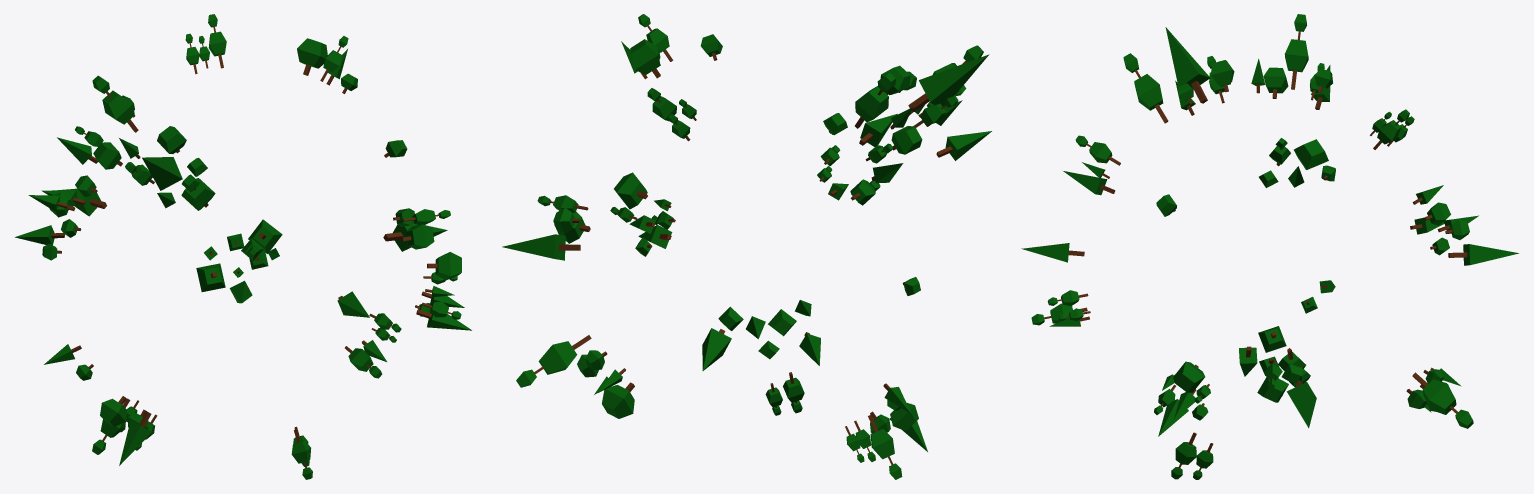
The model's file is planet_trees.glb.
The picture shows the model from 3 angles, left to right: view 1: azimuth 30°, elevation 25°; view 2: azimuth 150°, elevation 25°; view 3: azimuth 270°, elevation 25°; orthographic projection. The views are drawn at different scales.
Parts seen in each view (by area): view 1: tree_0.009, tree_2.012, tree_1.013, tree_0.008, tree_2.007, tree_1.003, tree_1.006, tree_1.009, tree_1, tree_0.015, tree_1.019, tree_1.018 (+9 smaller); view 2: tree_2.012, tree_0.015, tree_0.009, tree_2.019, tree_1.006, tree_1.013, tree_0.016, tree_2.015, tree_1.003, tree_2.006, tree_2.004, tree_1.019 (+5 smaller); view 3: tree_2.012, tree_0.015, tree_0.008, tree_0.009, tree_2.015, tree_2.019, tree_1.013, tree_1.003, tree_2.004, tree_0.020, tree_1.019, tree_0.012 (+2 smaller).
Part boxes in pixels (<box>): tree_0.009: <box>92,75,138,132</box>; tree_2.012: <box>142,157,182,190</box>; tree_1.013: <box>297,38,327,75</box>; tree_0.008: <box>181,174,215,210</box>; tree_2.007: <box>119,411,151,465</box>; tree_1.003: <box>427,252,461,280</box>; tree_1.006: <box>196,263,225,291</box>; tree_1.009: <box>100,396,126,426</box>; tree_1: <box>401,224,434,249</box>; tree_0.015: <box>248,219,282,253</box>; tree_1.019: <box>93,142,122,169</box>; tree_1.018: <box>157,126,186,153</box>; tree_2.012: <box>908,54,989,111</box>; tree_0.015: <box>516,335,591,387</box>; tree_0.009: <box>855,72,895,128</box>; tree_2.019: <box>502,234,580,260</box>; tree_1.006: <box>602,382,634,418</box>; tree_1.013: <box>630,39,660,78</box>; tree_0.016: <box>868,415,902,479</box>; tree_2.015: <box>702,328,731,370</box>; tree_1.003: <box>614,172,647,209</box>; tree_2.006: <box>936,131,991,160</box>; tree_2.004: <box>859,113,897,146</box>; tree_1.019: <box>891,126,922,154</box>; tree_2.012: <box>1165,27,1210,103</box>; tree_0.015: <box>1412,372,1473,428</box>; tree_0.008: <box>1123,53,1168,123</box>; tree_0.009: <box>1284,14,1308,89</box>; tree_2.015: <box>1448,244,1518,265</box>; tree_2.019: <box>1287,381,1316,428</box>; tree_1.013: <box>1294,139,1328,169</box>; tree_1.003: <box>1173,361,1205,392</box>; tree_2.004: <box>1021,243,1084,262</box>; tree_0.020: <box>1171,432,1196,479</box>; tree_1.019: <box>1263,67,1288,98</box>; tree_0.012: <box>1373,109,1409,149</box>.
Size of the model in its own units: 64.26 by 61.1 by 70.16.
